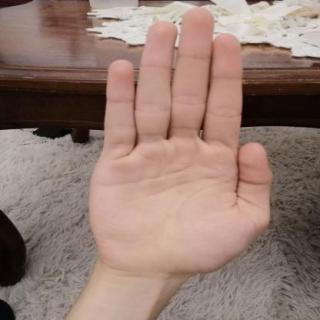SEEN: (77, 3, 285, 285)
